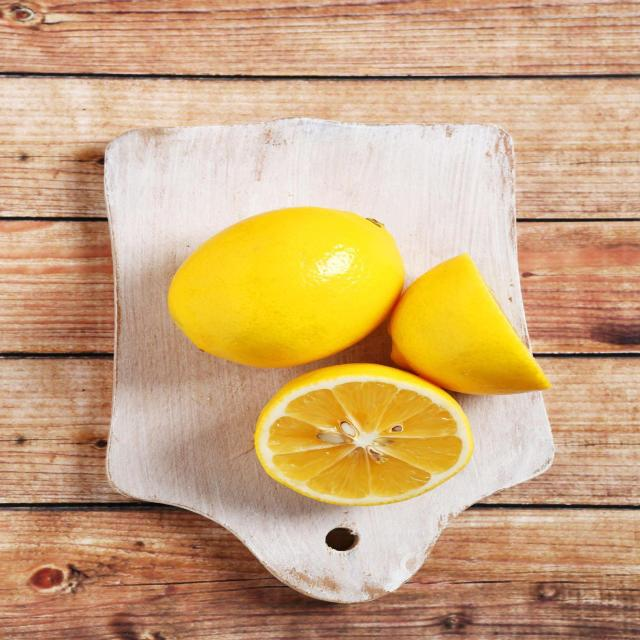lemon: (247, 360, 479, 510)
